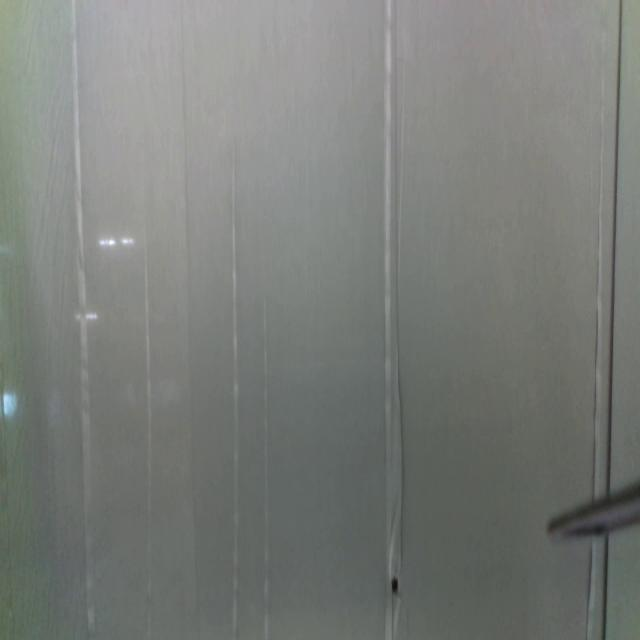crease: (69, 3, 96, 640), (180, 4, 200, 640), (386, 0, 406, 569), (606, 0, 624, 496), (228, 139, 241, 640), (140, 201, 153, 640), (592, 72, 605, 493), (261, 299, 270, 640), (584, 545, 594, 640), (602, 534, 610, 638)
hole: (391, 576, 398, 597)
